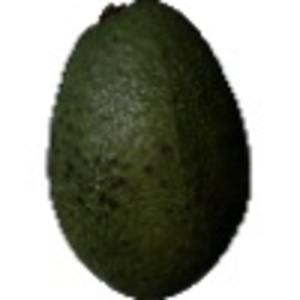abacate: (44, 1, 250, 298)
